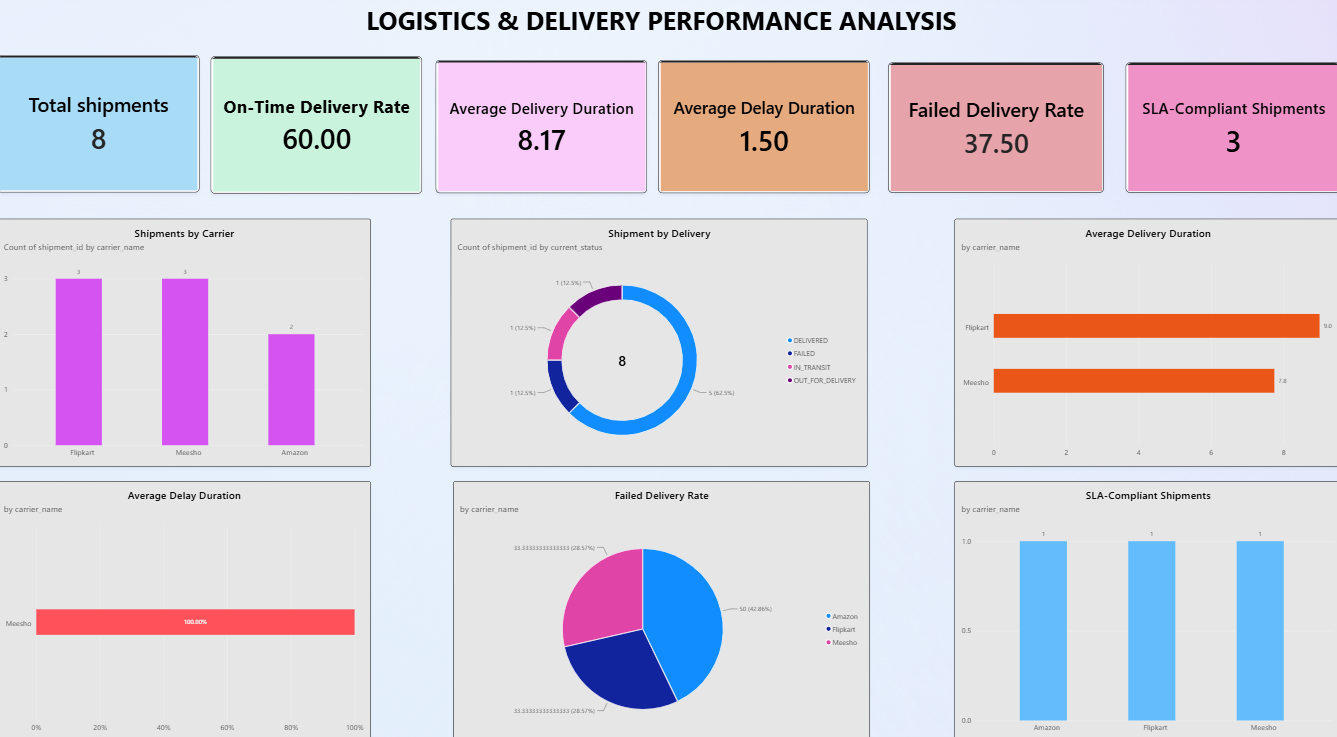

This screenshot's page, from the dashboard's own definition file:
{"tool":"powerbi","page":{"name":"Page 1","canvas":[2560,1440],"ordinal":0},"visuals":[{"type":"cardVisual","fields":{"Data":["logistics shipments.Total shipments"]},"box":[0,132.2,385.8,261.7],"z":0},{"type":"cardVisual","fields":{"Data":["logistics shipments.On-Time Delivery Rate"]},"box":[407.4,134.9,402,261.7],"z":1000},{"type":"cardVisual","fields":{"Data":["logistics shipments.Average Delivery Duration"]},"box":[836.4,143,402,253.6],"z":2000},{"type":"cardVisual","fields":{"Data":["logistics shipments.Average Delay Duration"]},"box":[1260,143,402,253.6],"z":3000},{"type":"cardVisual","fields":{"Data":["logistics shipments.Failed Delivery Rate"]},"box":[1697.1,148.4,410.1,248.2],"z":4000},{"type":"cardVisual","fields":{"Data":["logistics shipments.SLA-Compliant Shipments"]},"box":[2150.4,148.4,410.1,248.2],"z":5000},{"type":"clusteredColumnChart","title":"Shipments by Carrier","fields":{"Category":["logistics carriers.carrier_name"],"Y":["Count(logistics shipments.shipment_id)"]},"box":[0,445.2,712.3,472.2],"z":6000},{"type":"donutChart","title":"Shipment by Delivery","fields":{"Category":["logistics shipments.current_status"],"Y":["Count(logistics shipments.shipment_id)"]},"box":[863.4,445.2,793.3,472.2],"z":7000},{"type":"clusteredBarChart","fields":{"Category":["logistics carriers.carrier_name"],"Y":["logistics shipments.Average Delivery Duration"]},"box":[1824,445.2,736.6,472.2],"z":8000},{"type":"hundredPercentStackedBarChart","fields":{"Category":["logistics carriers.carrier_name"],"Y":["logistics shipments.Average Delay Duration"]},"box":[0,944.4,712.3,496.5],"z":9000},{"type":"pieChart","fields":{"Category":["logistics carriers.carrier_name"],"Y":["logistics shipments.Failed Delivery Rate"]},"box":[868.8,944.4,793.3,496.5],"z":10000},{"type":"clusteredColumnChart","fields":{"Category":["logistics carriers.carrier_name"],"Y":["logistics shipments.SLA-Compliant Shipments"]},"box":[1824,944.4,736.6,496.5],"z":11000},{"type":"textbox","box":[0,32.4,2425.6,99.8],"z":12000}]}

Visuals, with their boxes in screenshot pixels (x1, y1, x2, y2), scaled from the page's 2560x1440 canvas onto the 1337x737 screenshot:
cardVisual - logistics shipments.Total shipments: Rect(0, 68, 201, 202)
cardVisual - logistics shipments.On-Time Delivery Rate: Rect(213, 69, 423, 203)
cardVisual - logistics shipments.Average Delivery Duration: Rect(437, 73, 647, 203)
cardVisual - logistics shipments.Average Delay Duration: Rect(658, 73, 868, 203)
cardVisual - logistics shipments.Failed Delivery Rate: Rect(886, 76, 1101, 203)
cardVisual - logistics shipments.SLA-Compliant Shipments: Rect(1123, 76, 1336, 203)
"Shipments by Carrier" clusteredColumnChart: Rect(0, 228, 372, 470)
"Shipment by Delivery" donutChart: Rect(451, 228, 865, 470)
clusteredBarChart - logistics carriers.carrier_name x logistics shipments.Average Delivery Duration: Rect(953, 228, 1336, 470)
hundredPercentStackedBarChart - logistics carriers.carrier_name x logistics shipments.Average Delay Duration: Rect(0, 483, 372, 736)
pieChart - logistics carriers.carrier_name x logistics shipments.Failed Delivery Rate: Rect(454, 483, 868, 736)
clusteredColumnChart - logistics carriers.carrier_name x logistics shipments.SLA-Compliant Shipments: Rect(953, 483, 1336, 736)
textbox: Rect(0, 17, 1267, 68)
